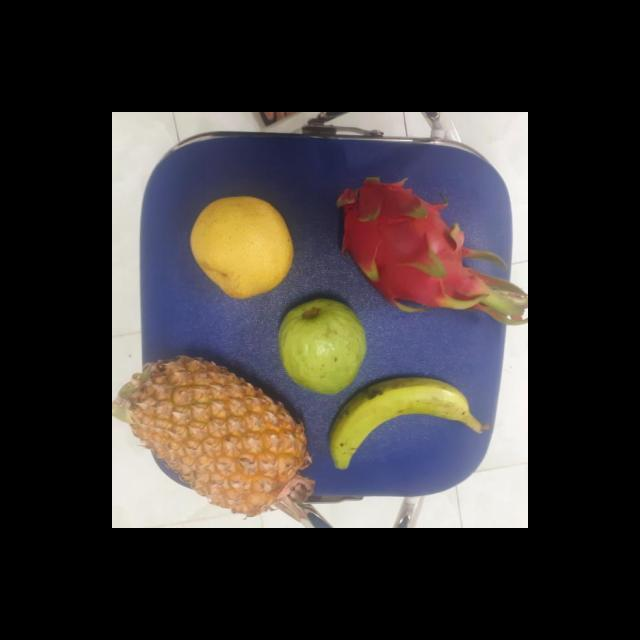banana: (322, 374, 470, 468)
guava: (274, 300, 366, 394)
pear: (188, 195, 298, 301)
pineapple: (122, 352, 304, 510)
pitaya: (323, 155, 498, 309)
